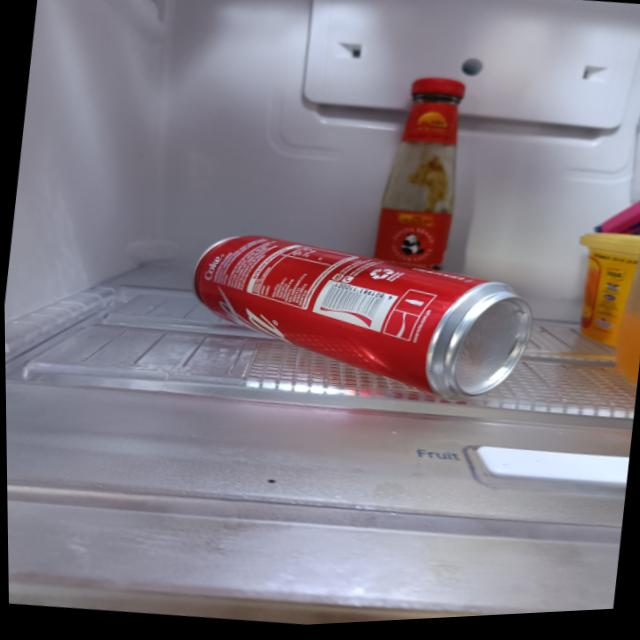coke: (176, 212, 535, 422)
